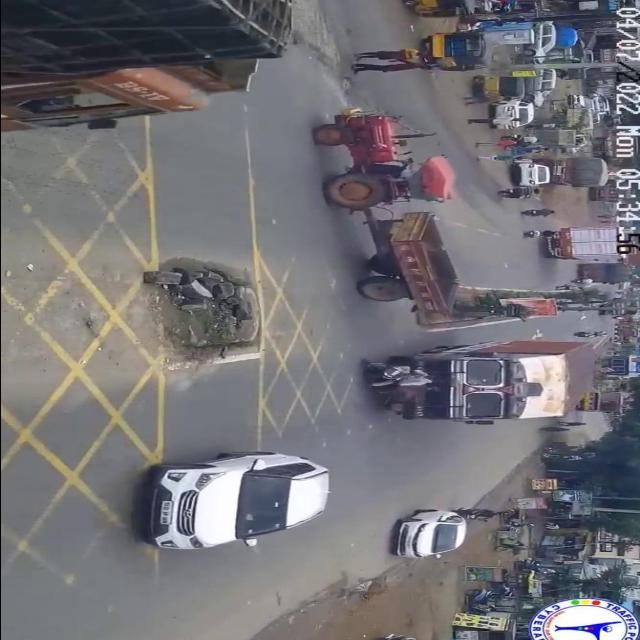accident: (352, 338, 596, 430)
non_accident: (464, 66, 564, 134), (504, 151, 612, 195)
